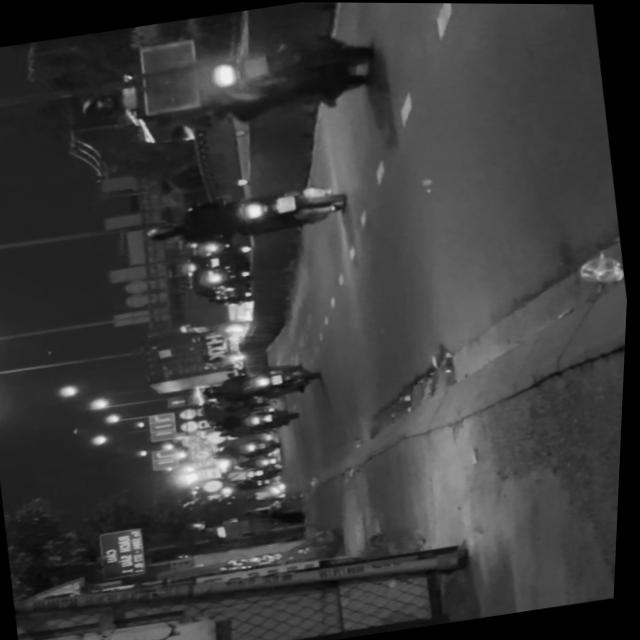helmet: (78, 88, 129, 121)
licenseplate: (65, 2, 402, 164)
